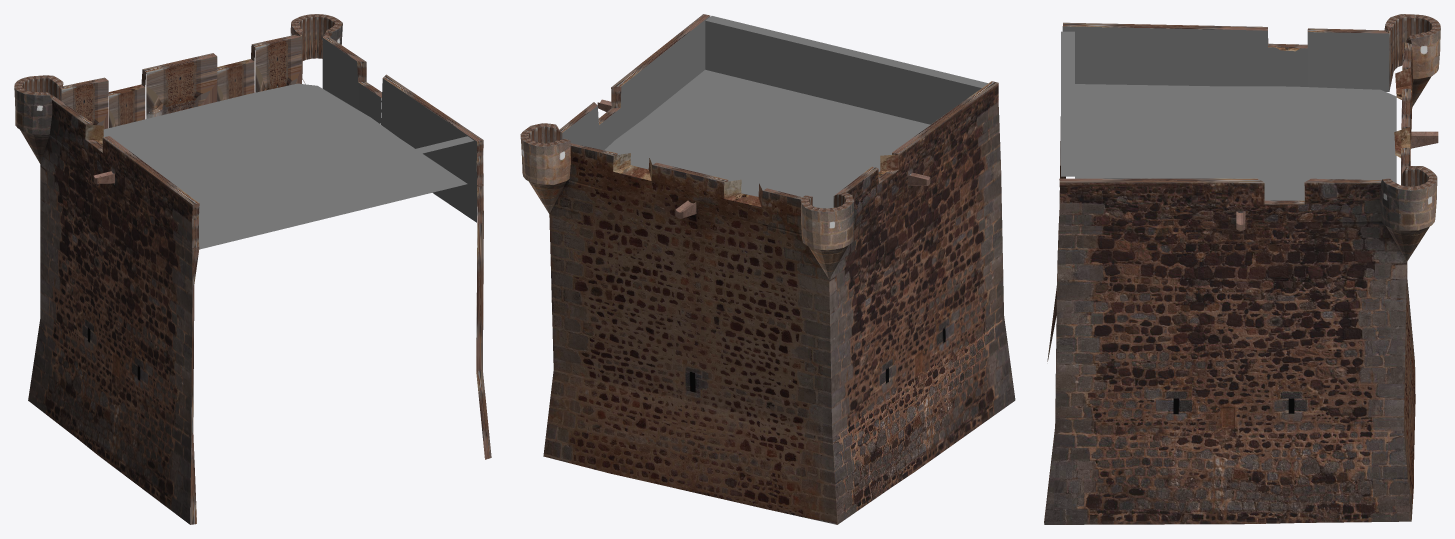
File: La_torre2k_jpg.674bd266.glb
3 views of the same model, side by side, from view 1: azimuth 30°, elevation 25°; view 2: azimuth 150°, elevation 25°; view 3: azimuth 270°, elevation 25° (orthographic). The views are drawn at different scales.
Size of the model in its own units: 1.31 by 1.25 by 1.28.
3 materials, 1 textured.
